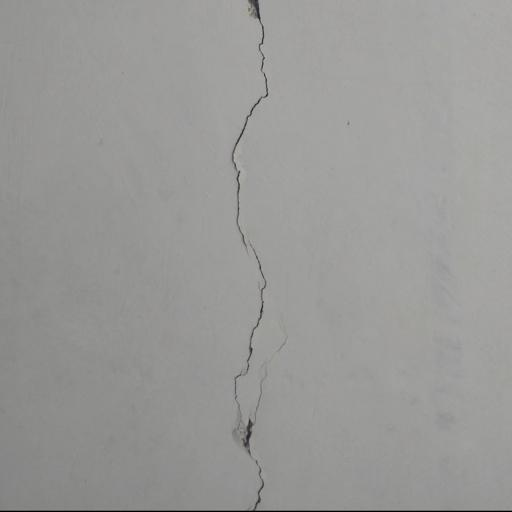minor_crack: (221, 0, 284, 512)
